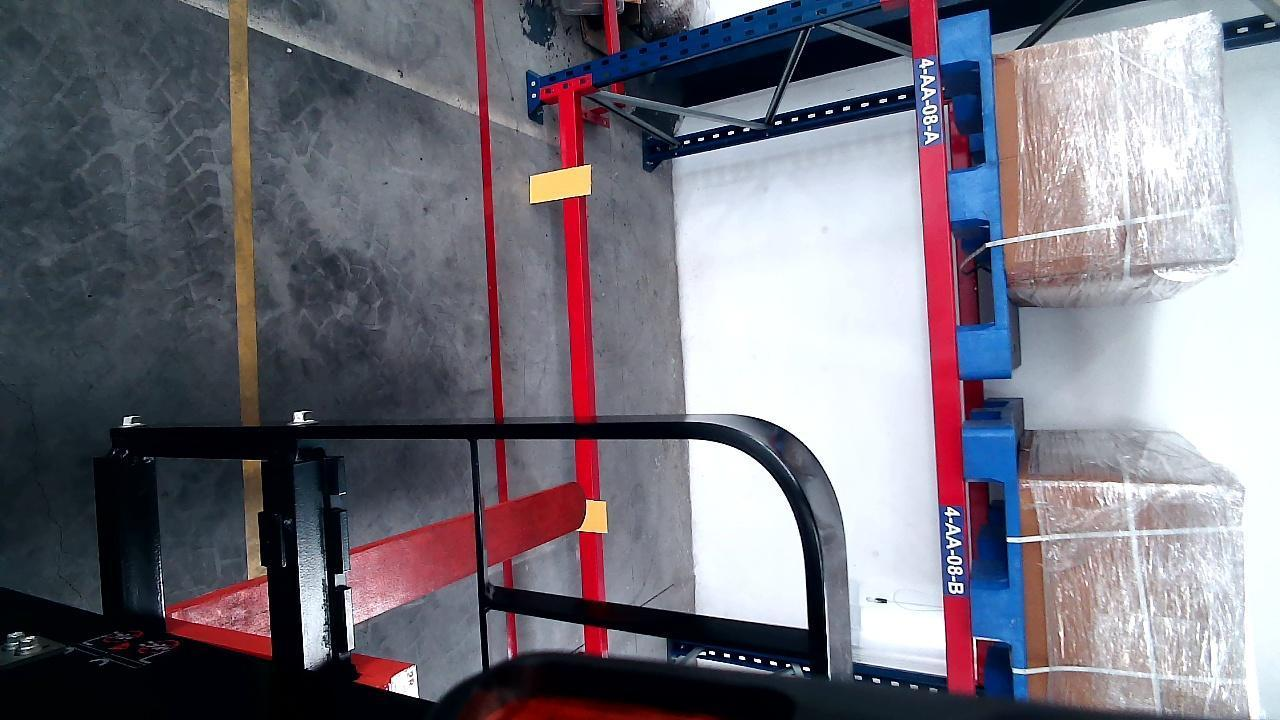h_rack: (915, 0, 971, 689), (558, 91, 609, 654)
orange_strip: (529, 166, 589, 201)
red_line: (475, 0, 519, 665)
small_pallet: (941, 5, 1007, 376), (967, 429, 1026, 694)
yellow_line: (231, 0, 263, 581)
